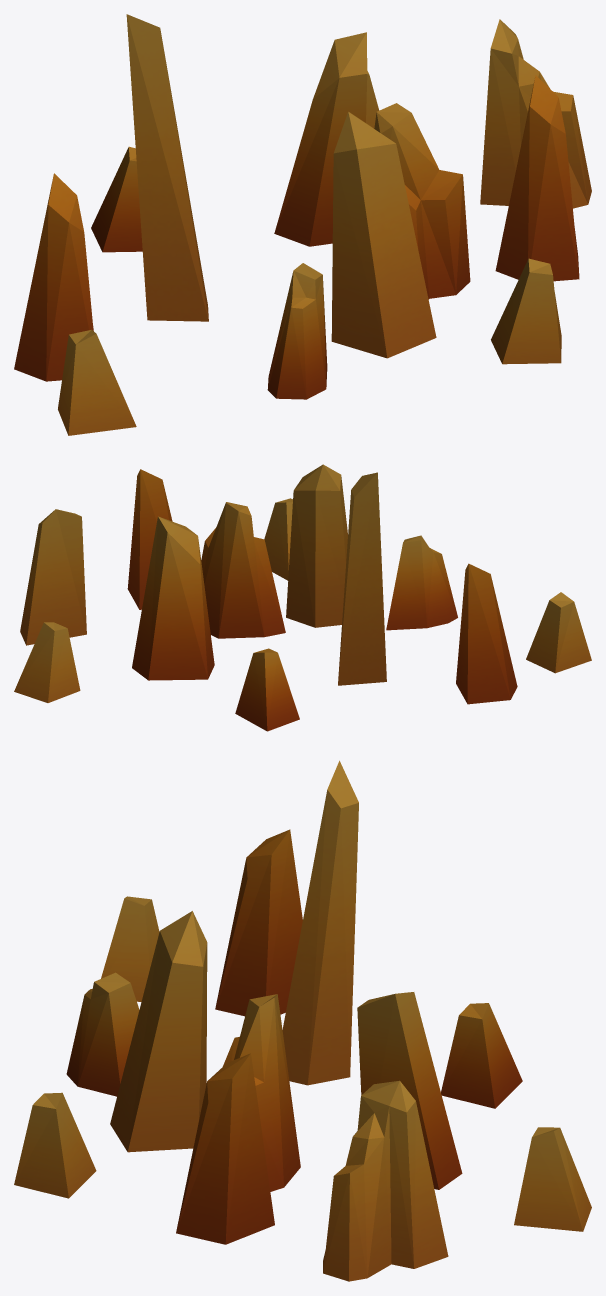
The model's file is ZLP_Crystalk_D_14.FBX.
The picture shows the model from 3 angles, top to bottom: view 1: azimuth 30°, elevation 25°; view 2: azimuth 150°, elevation 25°; view 3: azimuth 270°, elevation 25°; orthographic projection. The views are drawn at different scales.
Parts seen in each view (by area): view 1: ZLP_Crystalk_D_14; view 2: ZLP_Crystalk_D_14; view 3: ZLP_Crystalk_D_14.
Boxes of the visible parts, x1,y1,x2,y2 form: ZLP_Crystalk_D_14: (14, 14, 591, 435); ZLP_Crystalk_D_14: (14, 464, 591, 731); ZLP_Crystalk_D_14: (14, 760, 591, 1281).
Bounding box in the file's own units: 316 × 139 × 247.
